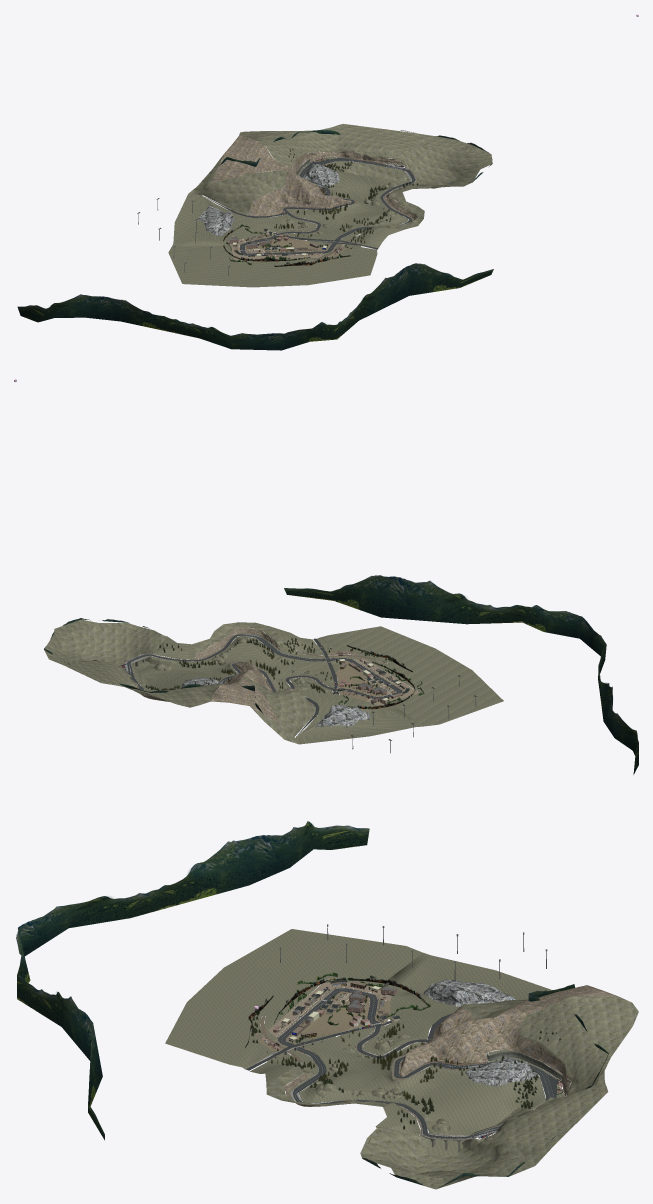
Rendered from mountain.glb.
3 views of the same model, one above another, from view 1: azimuth 30°, elevation 25°; view 2: azimuth 150°, elevation 25°; view 3: azimuth 270°, elevation 25° (orthographic). The views are drawn at different scales.
Parts seen in each view (by area): view 1: env_rock02_grass_0, mountain_PIVOT_mountain_background_0, env.010_rock02_rock03_0, road_road_PIVOT.001_road_0, alphas.001_alpha_gl_0, env.007_rock04_soil_0, env.001_pavement_0, buildings_all_PIVOT.002_Material__8867.008_0, buildings_all_PIVOT.009_Material__8867.003_0, alphas.002_alpha_gl.001_0; view 2: env_rock02_grass_0, mountain_PIVOT_mountain_background_0, env.010_rock02_rock03_0, alphas.001_alpha_gl_0, road_road_PIVOT.001_road_0, env.007_rock04_soil_0, env.001_pavement_0, buildings_all_PIVOT.002_Material__8867.008_0, buildings_all_PIVOT.009_Material__8867.003_0; view 3: env_rock02_grass_0, mountain_PIVOT_mountain_background_0, env.010_rock02_rock03_0, env.007_rock04_soil_0, road_road_PIVOT.001_road_0, alphas.001_alpha_gl_0, env.001_pavement_0, buildings_all_PIVOT.002_Material__8867.008_0, buildings_all_PIVOT.009_Material__8867.003_0, env.002_pavement02_0, alphas.002_alpha_gl.001_0, env.006_road_clean.001_0.
Part boxes in pixels (<box>): env_rock02_grass_0: <box>168,124,492,287</box>; mountain_PIVOT_mountain_background_0: <box>17,130,493,350</box>; env.010_rock02_rock03_0: <box>212,135,417,222</box>; road_road_PIVOT.001_road_0: <box>240,158,415,255</box>; alphas.001_alpha_gl_0: <box>226,149,418,264</box>; env.007_rock04_soil_0: <box>198,164,339,235</box>; env.001_pavement_0: <box>239,159,405,256</box>; buildings_all_PIVOT.002_Material__8867.008_0: <box>227,158,397,256</box>; buildings_all_PIVOT.009_Material__8867.003_0: <box>137,157,415,276</box>; alphas.002_alpha_gl.001_0: <box>223,225,350,266</box>; env_rock02_grass_0: <box>44,619,503,744</box>; mountain_PIVOT_mountain_background_0: <box>44,575,638,774</box>; env.010_rock02_rock03_0: <box>125,627,315,725</box>; alphas.001_alpha_gl_0: <box>145,638,424,704</box>; road_road_PIVOT.001_road_0: <box>124,634,402,698</box>; env.007_rock04_soil_0: <box>181,677,370,728</box>; env.001_pavement_0: <box>118,652,402,701</box>; buildings_all_PIVOT.002_Material__8867.008_0: <box>124,648,409,704</box>; buildings_all_PIVOT.009_Material__8867.003_0: <box>121,633,477,753</box>; env_rock02_grass_0: <box>165,929,638,1189</box>; mountain_PIVOT_mountain_background_0: <box>16,821,608,1187</box>; env.010_rock02_rock03_0: <box>284,985,617,1134</box>; env.007_rock04_soil_0: <box>423,979,539,1086</box>; road_road_PIVOT.001_road_0: <box>278,988,556,1138</box>; alphas.001_alpha_gl_0: <box>251,972,560,1129</box>; env.001_pavement_0: <box>258,988,561,1140</box>; buildings_all_PIVOT.002_Material__8867.008_0: <box>265,979,563,1136</box>; buildings_all_PIVOT.009_Material__8867.003_0: <box>246,924,555,1139</box>; env.002_pavement02_0: <box>268,978,391,1036</box>; alphas.002_alpha_gl.001_0: <box>245,975,428,1047</box>; env.006_road_clean.001_0: <box>246,1004,558,1138</box>.
Bounding box in the file's own units: 2444 × 730 × 1400.
Materials: 34 (33 with a texture image).
